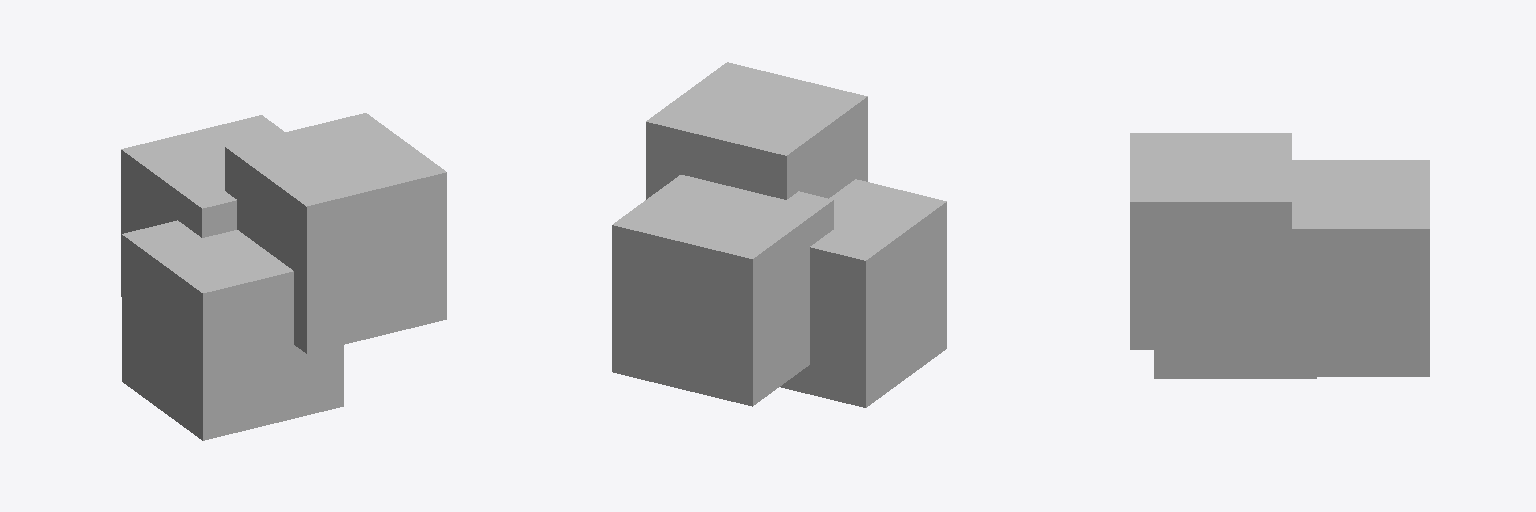
Rendered from bush-dark.obj.
3 views of the same model, side by side, from view 1: azimuth 30°, elevation 25°; view 2: azimuth 150°, elevation 25°; view 3: azimuth 270°, elevation 25° (orthographic).
Parts seen in each view (by area): view 1: Cube.007, Cube.002, Cube.005; view 2: Cube.005, Cube.002, Cube.007; view 3: Cube.007, Cube.005, Cube.002.
Part boxes in pixels (bbox=[...]): Cube.007: bbox=[225, 113, 446, 353]; Cube.002: bbox=[122, 220, 343, 440]; Cube.005: bbox=[121, 115, 284, 296]; Cube.005: bbox=[612, 175, 833, 406]; Cube.002: bbox=[780, 179, 946, 407]; Cube.007: bbox=[646, 62, 867, 199]; Cube.007: bbox=[1130, 133, 1291, 349]; Cube.005: bbox=[1268, 160, 1429, 376]; Cube.002: bbox=[1154, 350, 1316, 378].
Size of the model in its own units: 3.3 by 3 by 3.7.